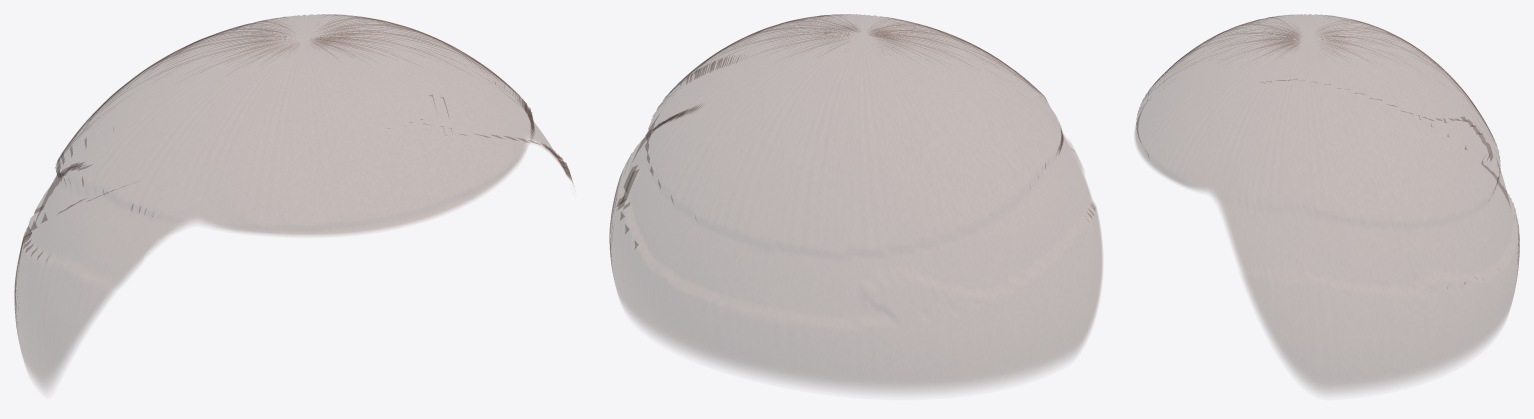
The model's file is Masculine-buzz-headband252-hair.glb.
3 views of the same model, side by side, from view 1: azimuth 30°, elevation 25°; view 2: azimuth 150°, elevation 25°; view 3: azimuth 270°, elevation 25° (orthographic). The views are drawn at different scales.
Visible parts, largest first — view 1: 226 hair / Hair252 / buzz edge.001; view 2: 226 hair / Hair252 / buzz edge.001; view 3: 226 hair / Hair252 / buzz edge.001.
Part boxes in pixels (bbox=[...]): 226 hair / Hair252 / buzz edge.001: bbox=[14, 14, 573, 389]; 226 hair / Hair252 / buzz edge.001: bbox=[609, 14, 1102, 392]; 226 hair / Hair252 / buzz edge.001: bbox=[1135, 14, 1519, 392].
Bounding box in the file's own units: 0.9886 × 0.5747 × 0.76.
Materials: 1 (1 with a texture image).
